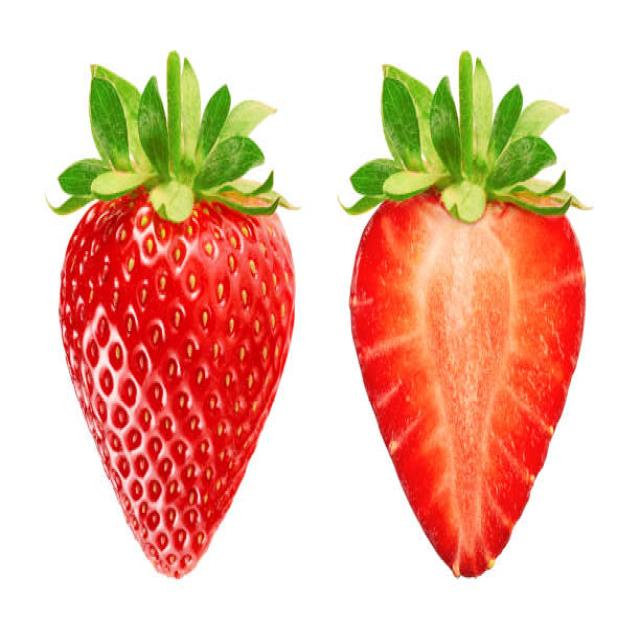Healthy Fruit: (59, 187, 296, 581)
